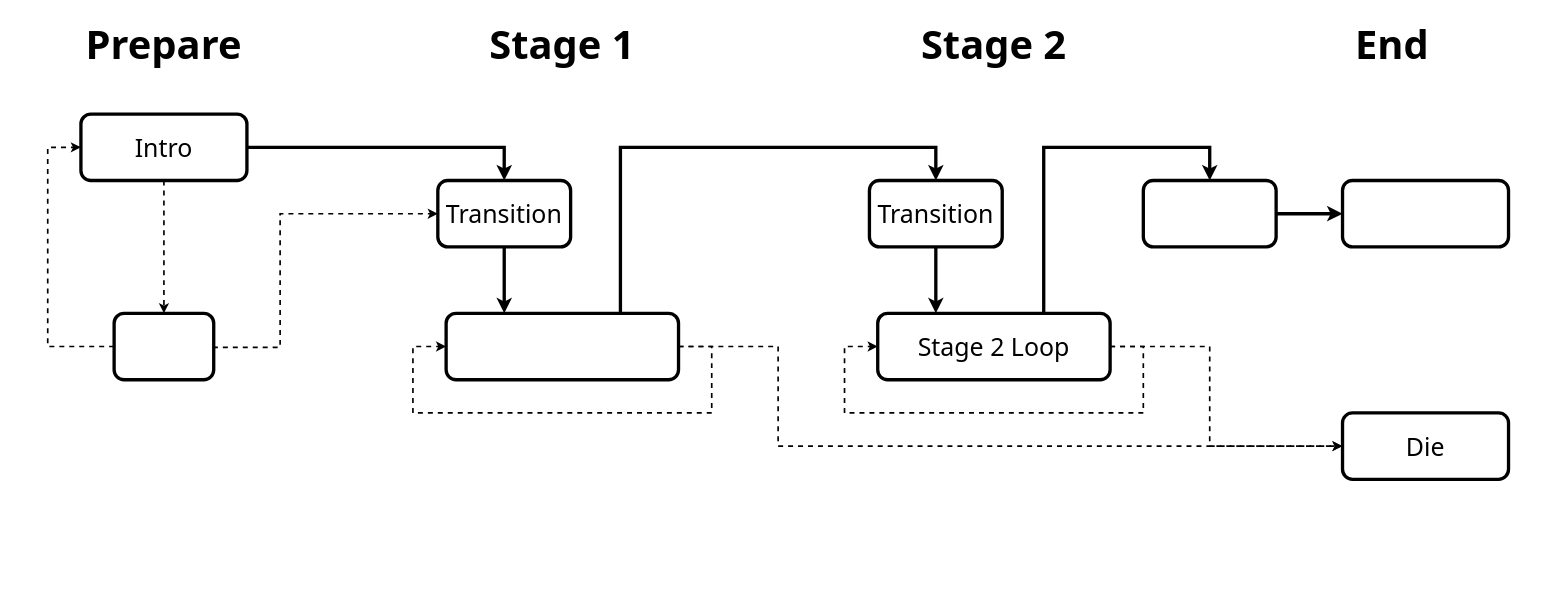
Image size: 1555x593. Some labels were removed from this diagram. The shapes that lost their labels are listed below. From the top down, each one's centre as x and y in pixels, then its label:
point (1209, 213): Cutscene
point (1425, 213): Win
point (163, 346): Silence
point (562, 346): Stage 1 Loop
